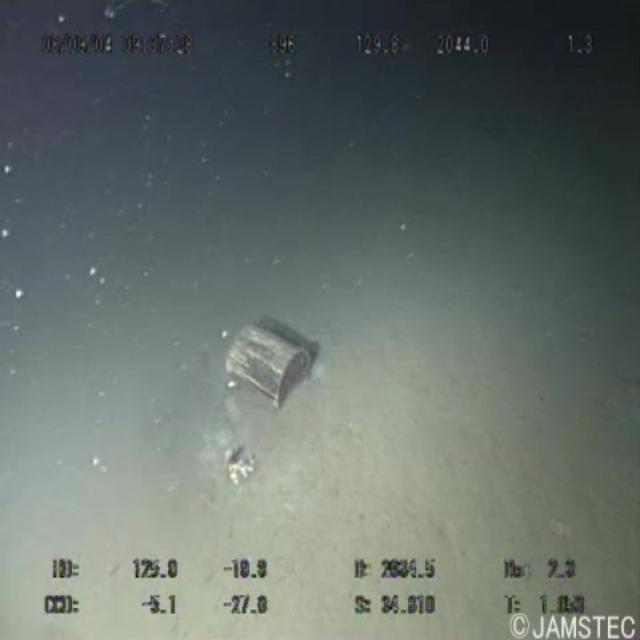Metal: (220, 298, 331, 428)
